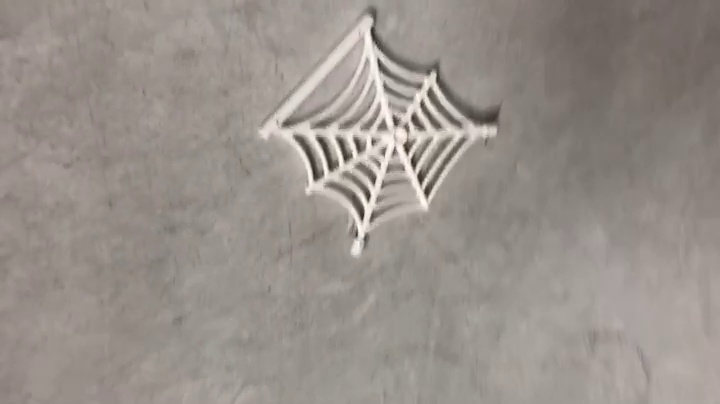web: (256, 7, 503, 261)
